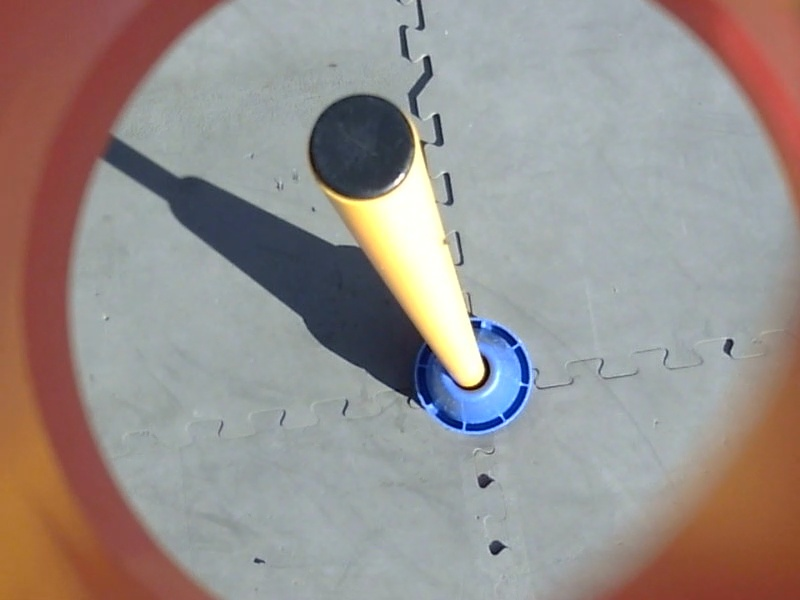tip: (303, 90, 421, 210)
